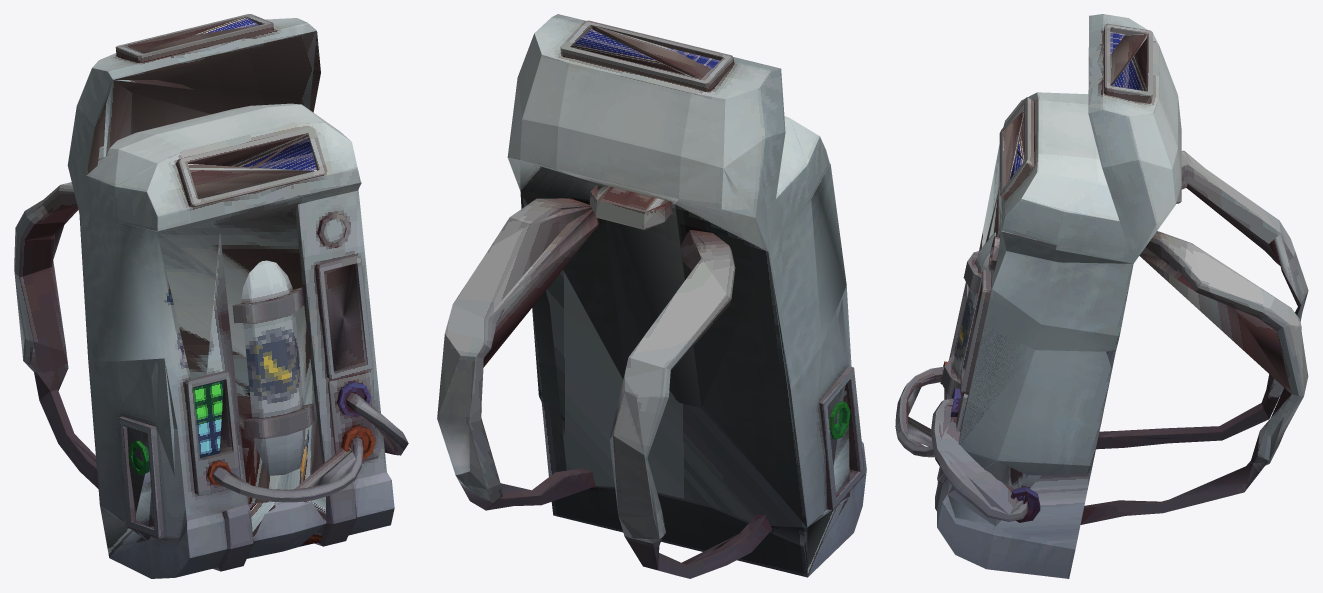
Rendered from item_backpack_space.glb.
3 renders of one model, left to right at view 1: azimuth 30°, elevation 25°; view 2: azimuth 150°, elevation 25°; view 3: azimuth 270°, elevation 25°, orthographic. The views are drawn at different scales.
Parts seen in each view (by area): view 1: Backpack_Open, Backpack_Close; view 2: Backpack_Open, Backpack_Close; view 3: Backpack_Open, Backpack_Close.
Part boxes in pixels (x1,y1,x2,y2): Backpack_Open: (14, 14, 408, 578); Backpack_Close: (14, 103, 408, 578); Backpack_Open: (437, 14, 866, 577); Backpack_Close: (437, 116, 864, 578); Backpack_Open: (896, 14, 1308, 578); Backpack_Close: (895, 92, 1308, 562).
Size of the model in its own units: 0.3648 by 0.6415 by 0.5135.
1 material, 1 textured.
